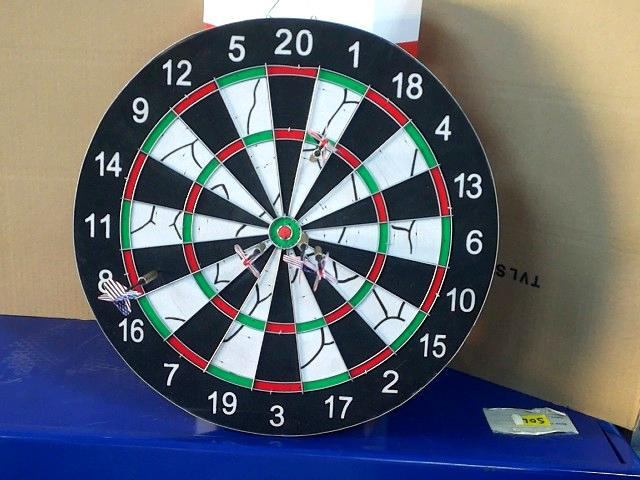single_1: (291, 143, 327, 215)
single_8: (137, 247, 189, 291)
